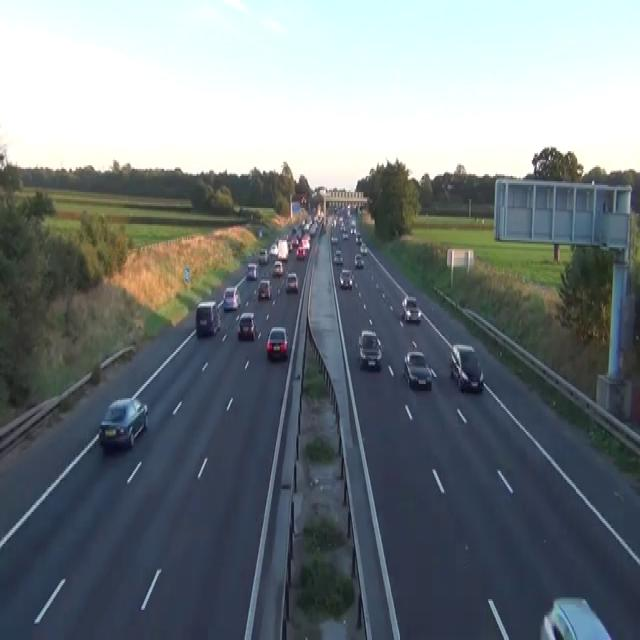Car: (539, 596, 613, 638), (98, 396, 148, 450), (450, 343, 484, 393), (403, 350, 432, 391), (358, 329, 382, 368), (195, 300, 220, 336), (266, 325, 288, 359), (236, 311, 256, 340), (401, 295, 422, 322), (222, 286, 240, 311), (257, 277, 271, 299), (339, 268, 353, 288), (285, 272, 298, 293), (246, 261, 257, 279), (332, 249, 343, 265), (272, 260, 283, 276), (301, 233, 310, 251), (354, 252, 364, 268), (258, 247, 268, 263), (296, 246, 305, 260), (269, 242, 278, 256), (359, 242, 367, 254), (308, 224, 316, 235), (292, 235, 299, 247), (355, 231, 361, 244), (331, 233, 338, 243), (300, 194, 306, 204), (321, 222, 326, 233), (287, 240, 292, 251), (350, 224, 355, 235), (342, 231, 348, 238), (258, 228, 262, 236)
